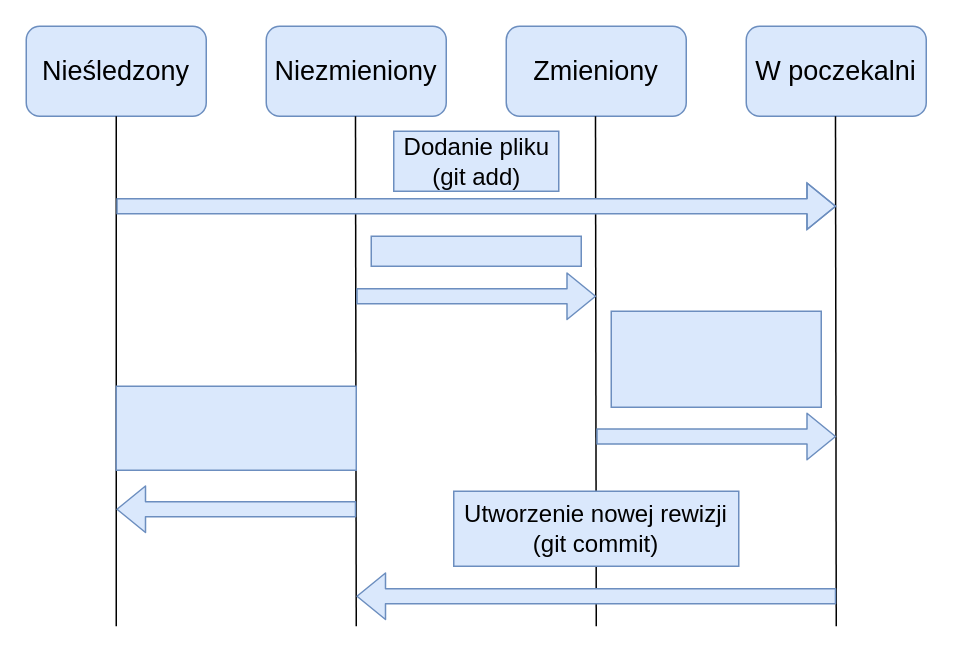
Image size: 953x654. Some labels were removed from this diagram. Here are the shapes that lost their labels. From the top down, the centre of each, then its label:
At [475,250]: "Modyfikacja pliku".
At [715,358]: "Dodanie pliku do nowej rewizji (git add)".
At [235,427]: "Usunięcie pliku z rejestru repozytorium (git rm)".
